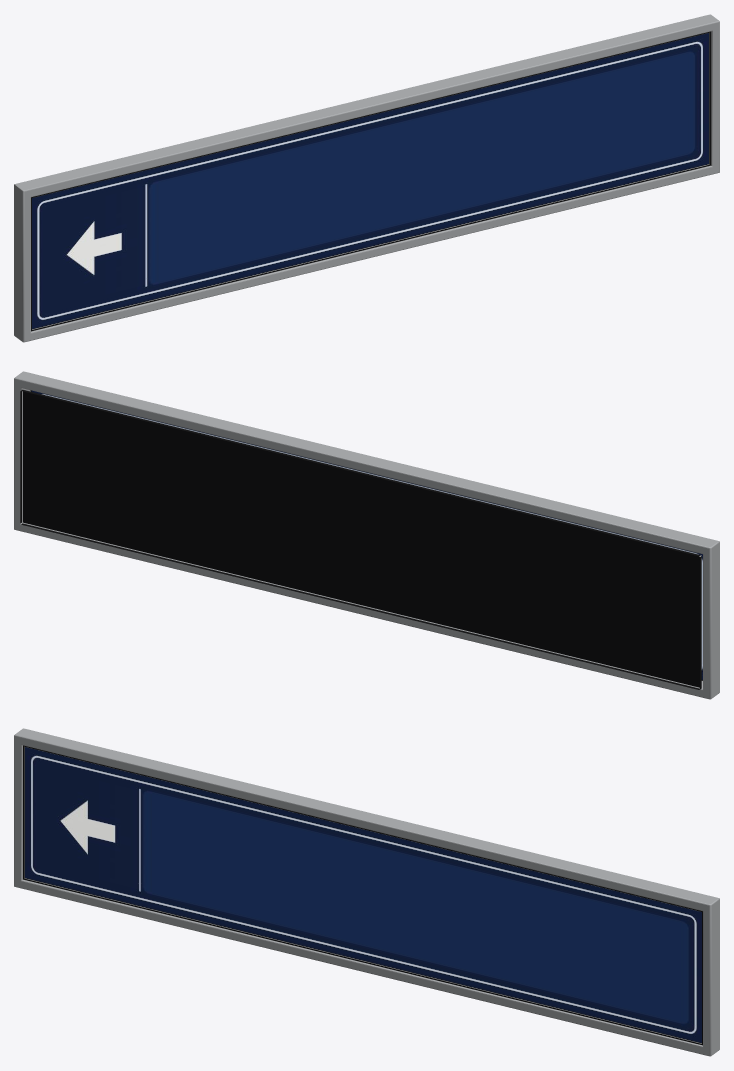
The model's file is gteki_sign_wall_navy_long.glb.
The picture shows the model from 3 angles, top to bottom: view 1: azimuth 30°, elevation 25°; view 2: azimuth 150°, elevation 25°; view 3: azimuth 330°, elevation 25°; orthographic projection.
Visible parts, largest first — view 1: VIS_faces, VIS_frame; view 2: VIS_frame, VIS_faces; view 3: VIS_faces, VIS_frame.
Boxes of the visible parts, x1,y1,x2,y2 form: VIS_faces: [32, 33, 708, 328]; VIS_frame: [14, 14, 719, 342]; VIS_frame: [14, 371, 719, 699]; VIS_faces: [31, 390, 702, 679]; VIS_faces: [25, 747, 701, 1042]; VIS_frame: [14, 728, 719, 1056].
Size of what is drawn, in the model's own units: 2.4 by 0.5 by 0.07.
3 materials, 1 textured.
